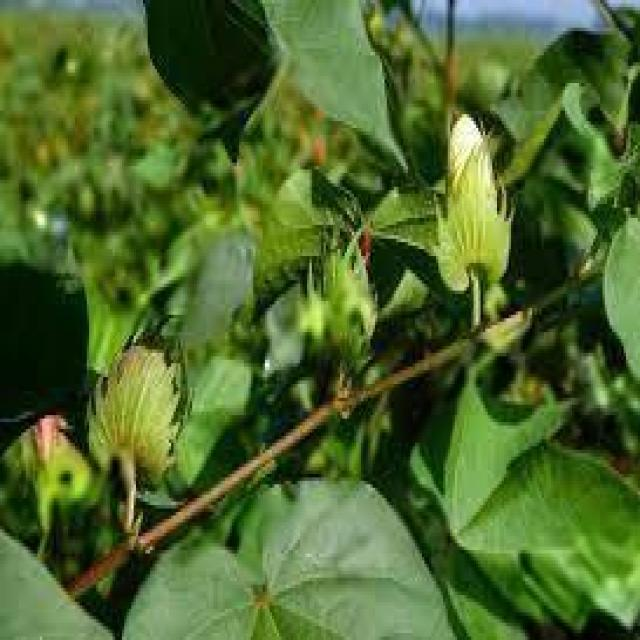Cotton Bud: (88, 317, 185, 490), (437, 161, 518, 290)
